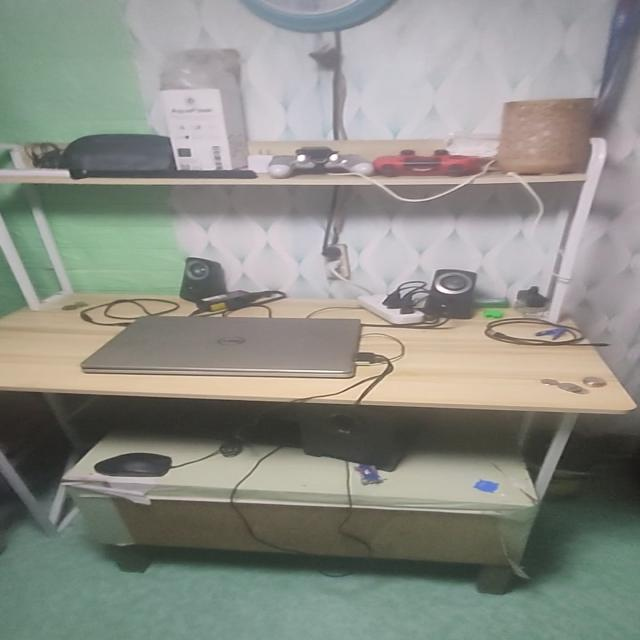table: (0, 277, 636, 586)
